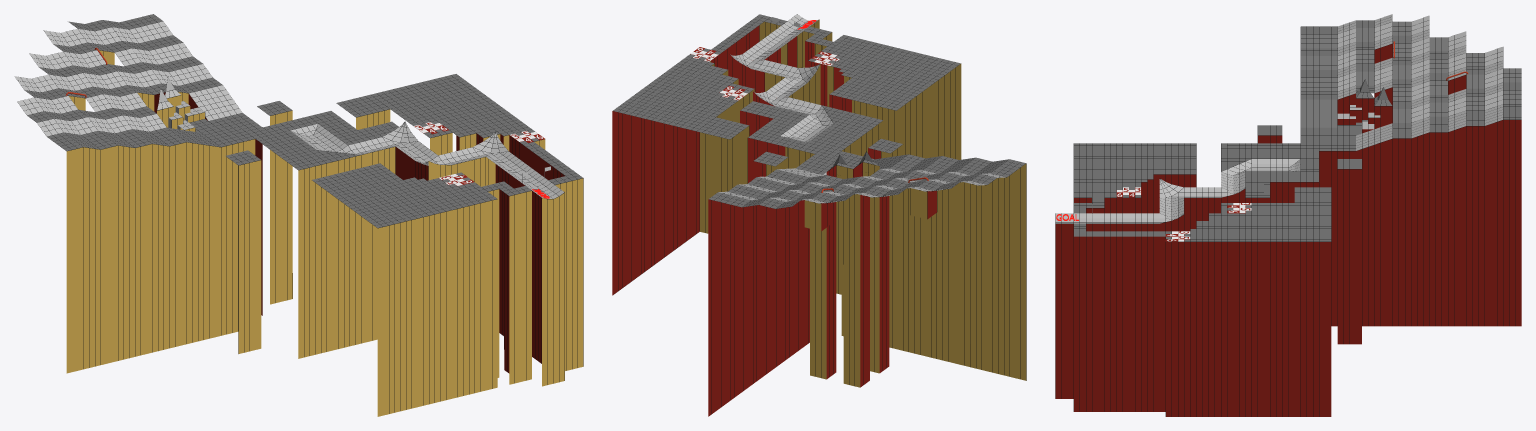
The model's file is level1.fbx.
3 views of the same model, side by side, from view 1: azimuth 30°, elevation 25°; view 2: azimuth 150°, elevation 25°; view 3: azimuth 270°, elevation 25° (orthographic). The views are drawn at different scales.
Visible parts, largest first — view 1: Plane.001; view 2: Plane.001; view 3: Plane.001.
Boxes of the visible parts, bbox=[...] form: Plane.001: bbox=[14, 14, 583, 416]; Plane.001: bbox=[612, 14, 1026, 416]; Plane.001: bbox=[1055, 14, 1521, 416].
Size of the model in its own units: 1578 by 900 by 1689.
